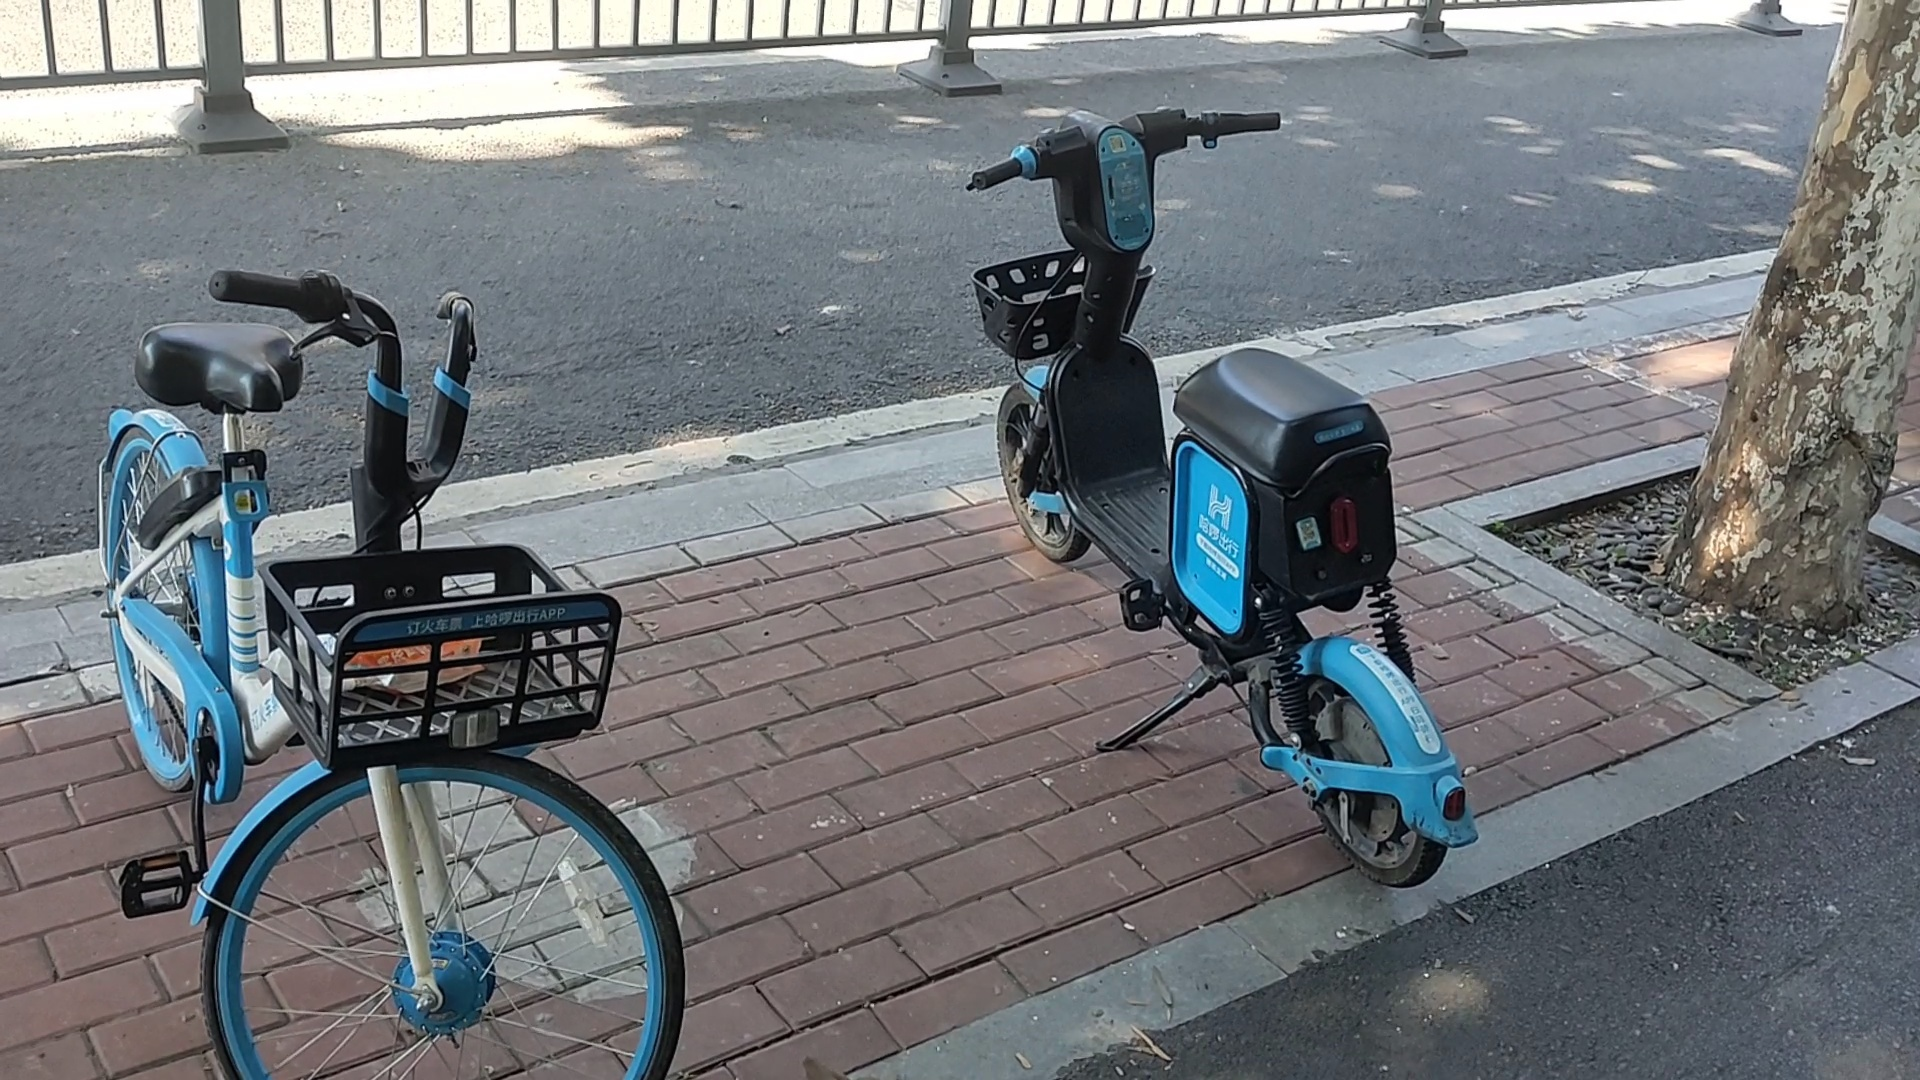non-vehicle: (61, 241, 678, 1080), (948, 95, 1490, 895)
